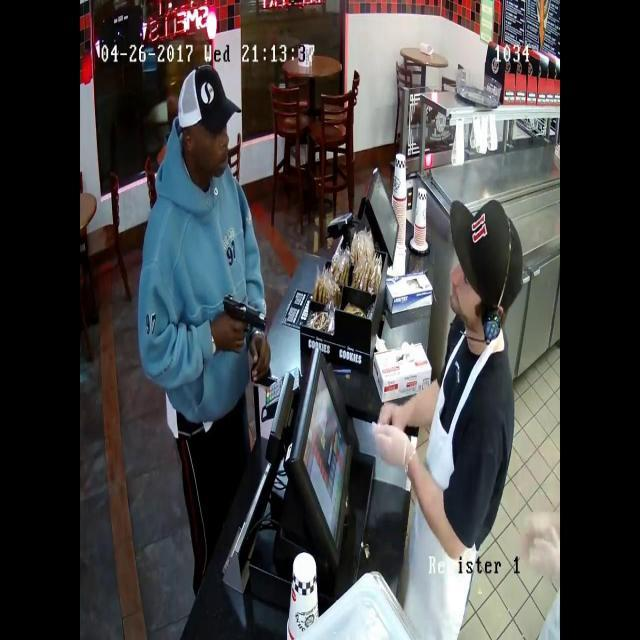weapon: (204, 272, 280, 364)
